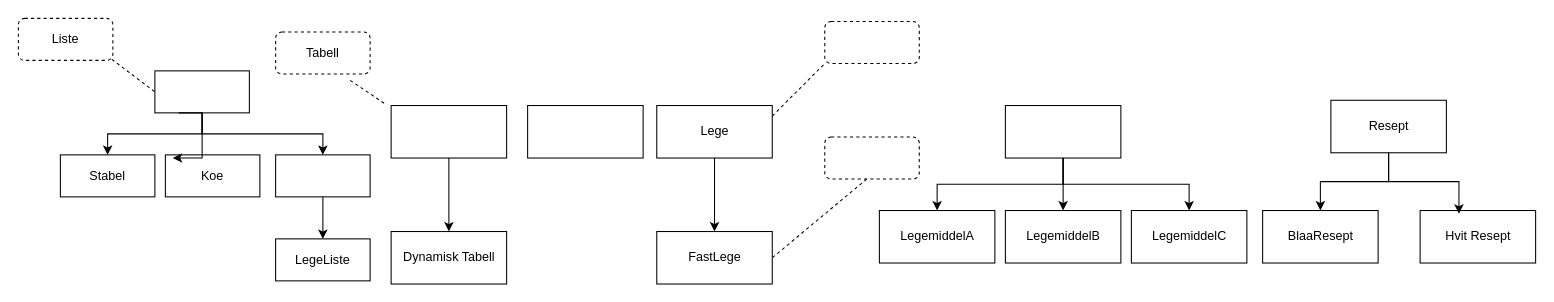
The diagram is 1554 pixels wide and 302 high, and some of its shapes have lost their labels. Here are the shapes that lost their labels. From the top down, the centre of each, then its label:
At point (871, 42): "Comparable".
At point (201, 91): "LenkeListe".
At point (448, 131): "Statisk Tabell".
At point (585, 131): "Pasient".
At point (1062, 131): "Legemiddel".
At point (322, 175): "Ordnet LenkeListe".
At point (871, 157): "KommuneAvtale".
